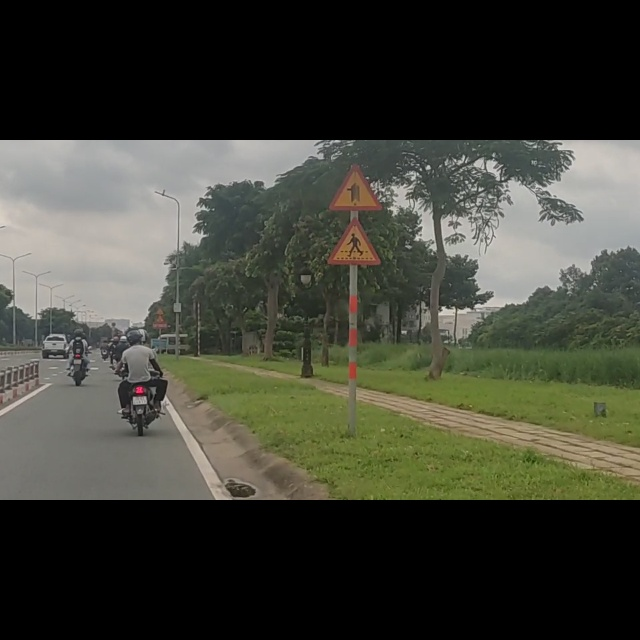bien_cam: (329, 40, 383, 126), (327, 137, 381, 222)
